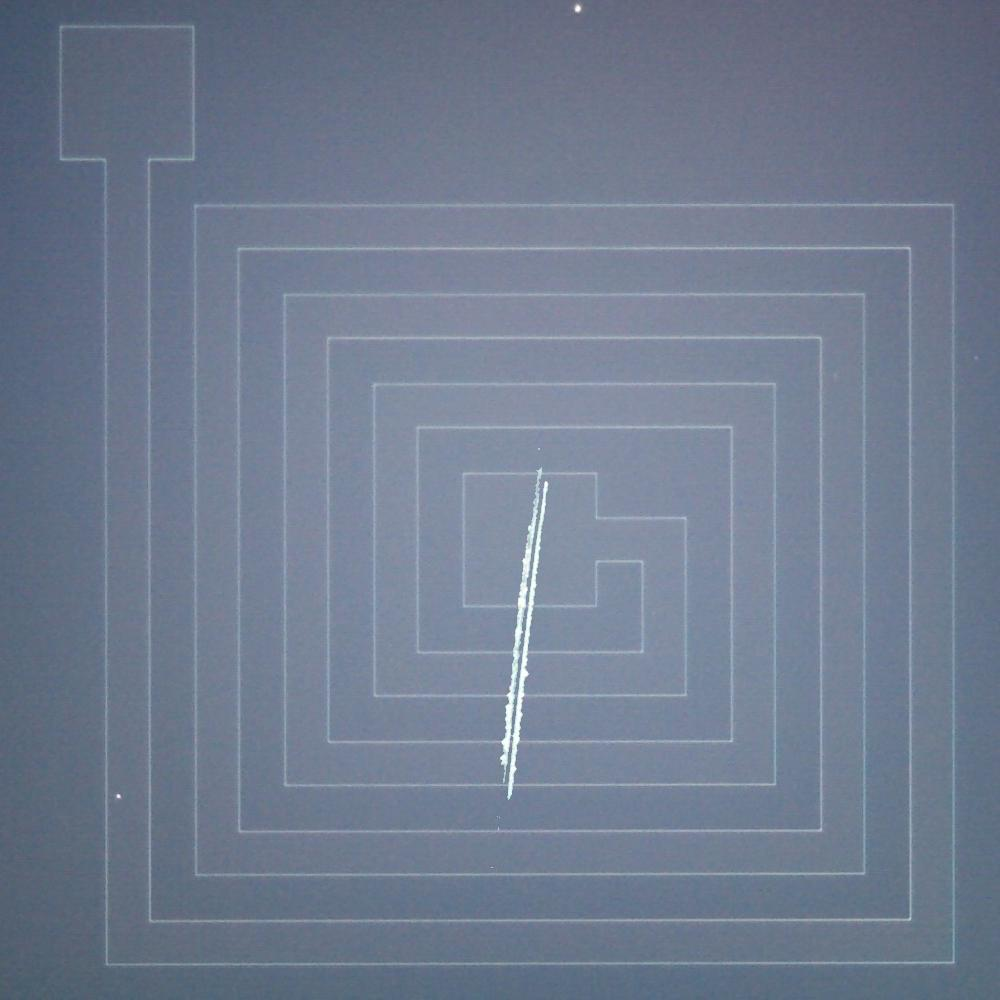dot: (108, 782, 134, 808), (566, 0, 587, 21)
scratch: (488, 457, 556, 807)
